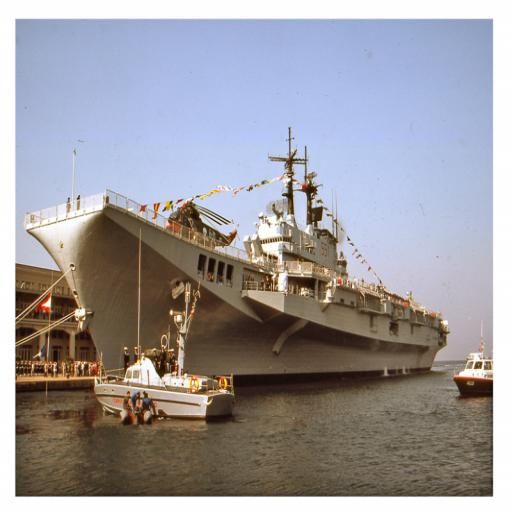Portanaves: (27, 127, 458, 402)
